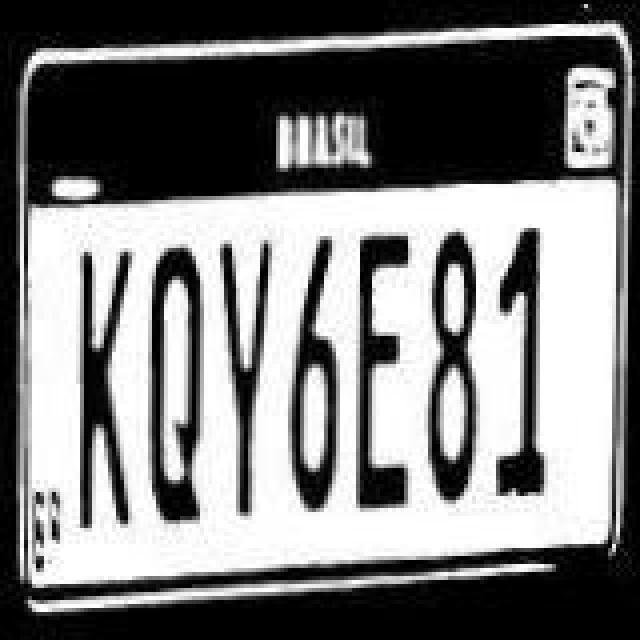1: (492, 226, 564, 502)
6: (284, 230, 348, 518)
8: (424, 226, 488, 506)
E: (348, 230, 420, 510)
K: (64, 252, 144, 532)
Q: (144, 244, 216, 528)
Y: (212, 238, 276, 518)
